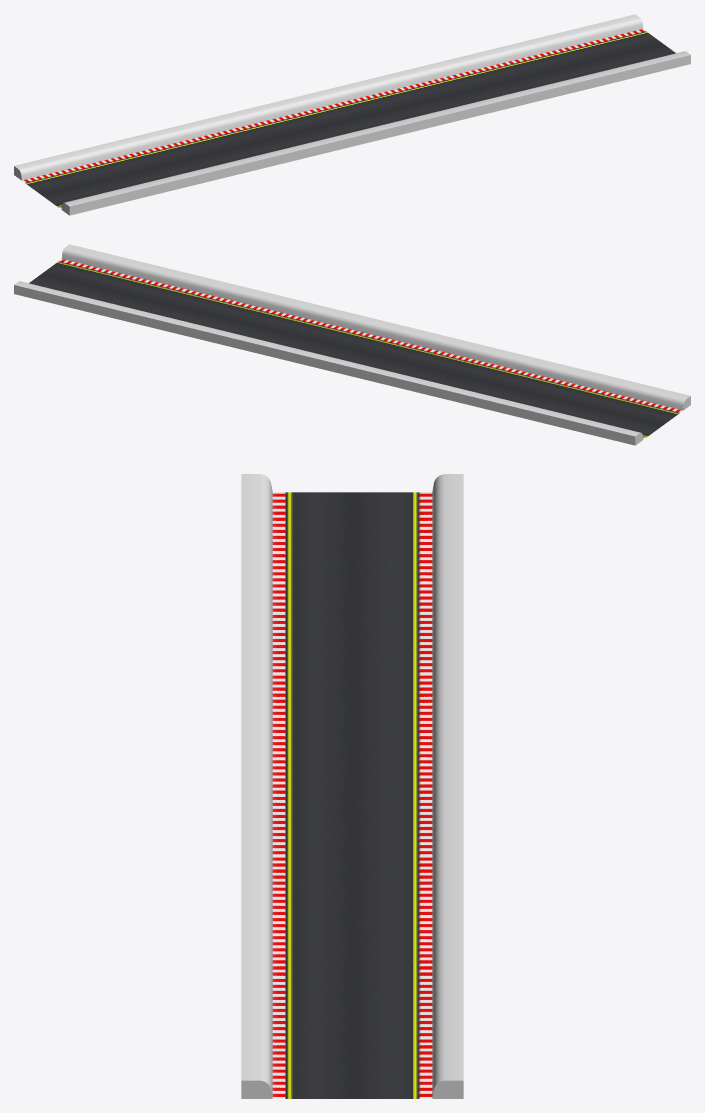
The picture shows the model from 3 angles, top to bottom: view 1: azimuth 30°, elevation 25°; view 2: azimuth 150°, elevation 25°; view 3: azimuth 270°, elevation 25°; orthographic projection. The views are drawn at different scales.
Parts seen in each view (by area): view 1: side cube transperent.002, Plane.007; view 2: side cube transperent.002, Plane.007; view 3: side cube transperent.002, Plane.007.
Boxes of the visible parts, x1,y1,x2,y2 form: side cube transperent.002: (22,29,675,209); Plane.007: (14,14,690,215); side cube transperent.002: (29,259,682,439); Plane.007: (14,244,690,445); side cube transperent.002: (272,492,432,1098); Plane.007: (241,474,463,1098).
Bounding box in the file's own units: 12065 × 169 × 1868.
